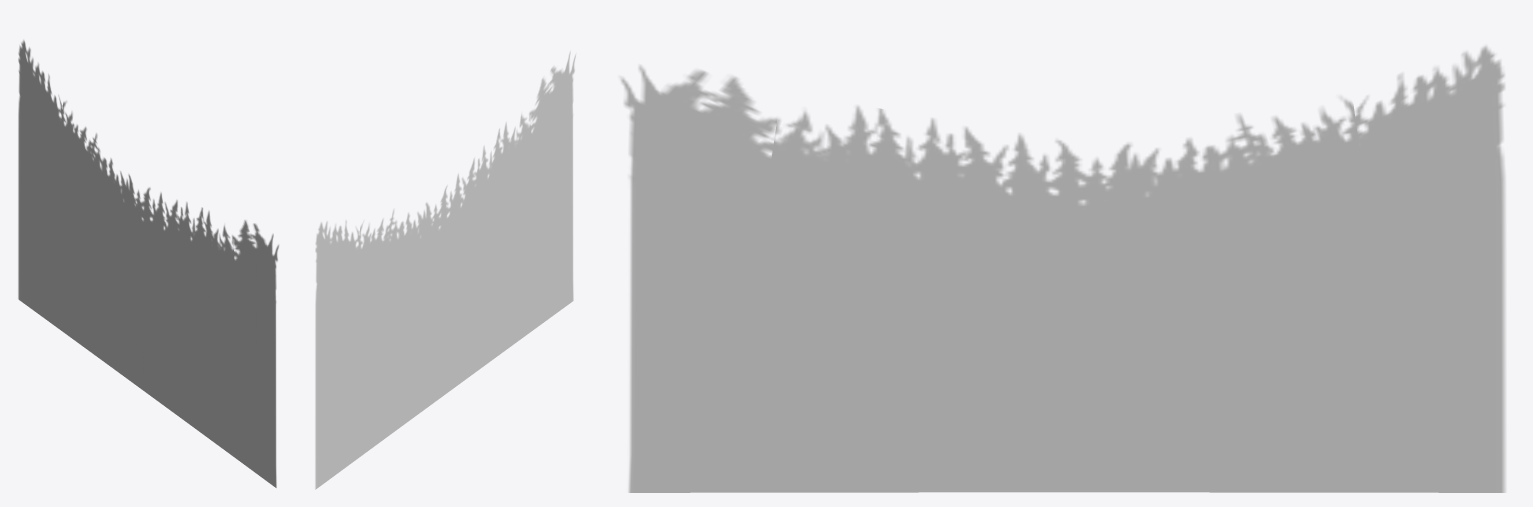
3 renders of one model, left to right at view 1: azimuth 30°, elevation 25°; view 2: azimuth 150°, elevation 25°; view 3: azimuth 270°, elevation 25°, orthographic. The views are drawn at different scales.
Visible parts, largest first — view 1: body0_model0_lod0_mesh0; view 2: body0_model0_lod0_mesh0; view 3: body0_model0_lod0_mesh0.
Boxes of the visible parts, <box> form: body0_model0_lod0_mesh0: <box>18,40,278,487</box>; body0_model0_lod0_mesh0: <box>315,51,575,489</box>; body0_model0_lod0_mesh0: <box>619,45,1506,492</box>.
Size of the model in its own units: 0 by 149 by 256.
Materials: 1 (1 with a texture image).
